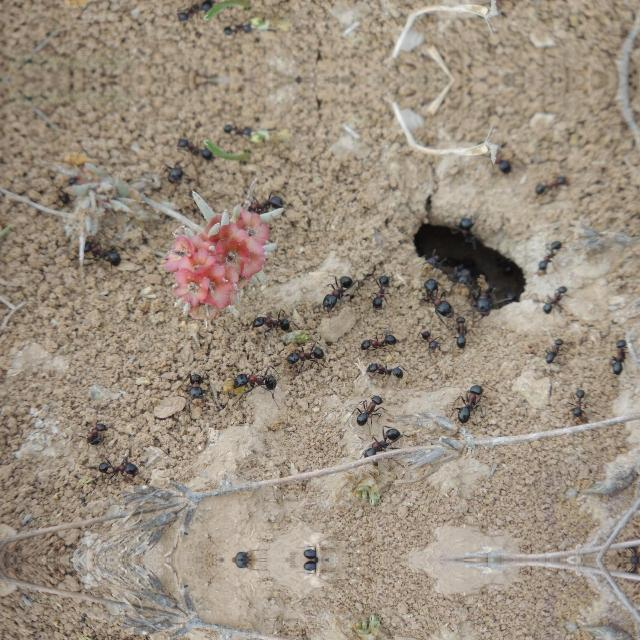Messor: (74, 236, 126, 270), (317, 273, 357, 317), (91, 452, 145, 481), (452, 381, 484, 429), (364, 422, 404, 460), (246, 182, 284, 222), (227, 368, 281, 396), (174, 136, 223, 166), (604, 336, 634, 380), (350, 392, 384, 428), (174, 0, 223, 24), (245, 311, 295, 334), (424, 277, 454, 315), (536, 233, 564, 273), (366, 269, 392, 311), (286, 340, 322, 368), (357, 331, 399, 355), (480, 146, 516, 174), (180, 370, 208, 404), (80, 422, 108, 456), (533, 170, 567, 196), (566, 382, 588, 422), (365, 359, 407, 379), (451, 311, 473, 349), (541, 284, 567, 312), (544, 334, 564, 366), (162, 160, 188, 184), (418, 330, 444, 352), (297, 540, 325, 560), (297, 560, 325, 580), (480, 0, 515, 14), (222, 123, 256, 135), (222, 25, 256, 37)
